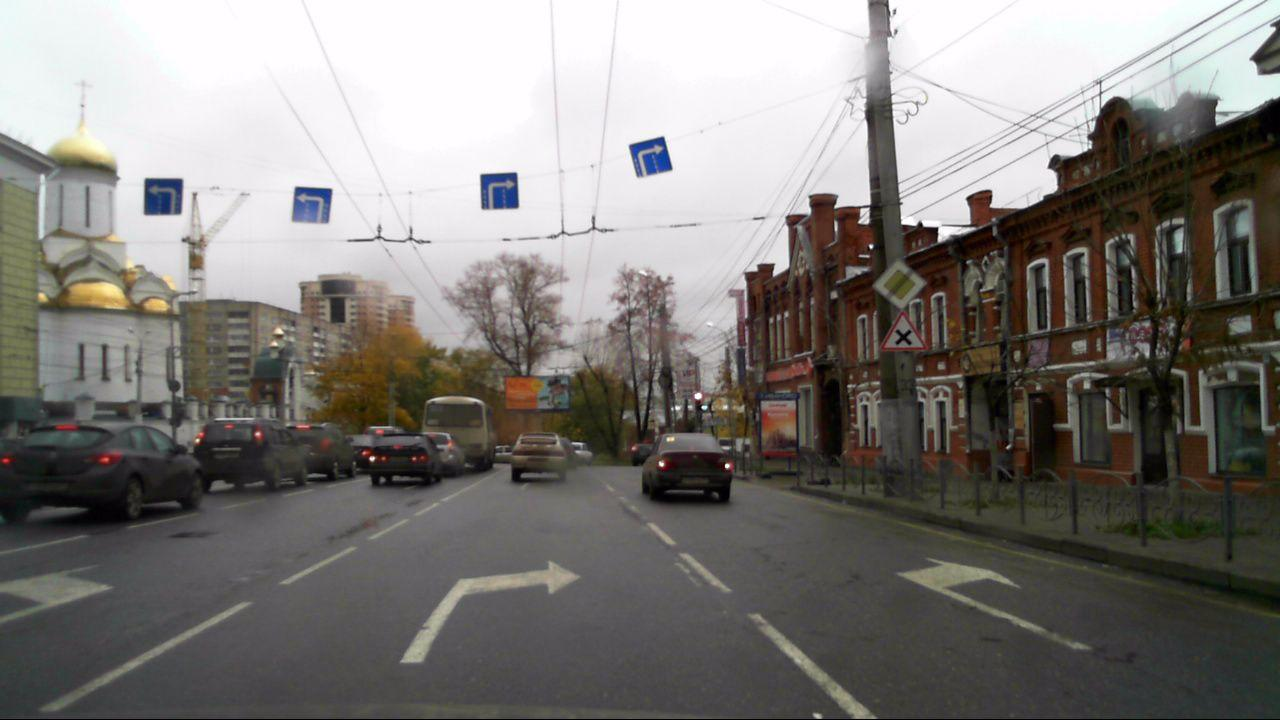1_6: (879, 309, 928, 351)
2_2: (871, 259, 925, 307)
5_15_2: (625, 135, 677, 181), (292, 185, 333, 225), (145, 176, 184, 216), (481, 173, 521, 211)
